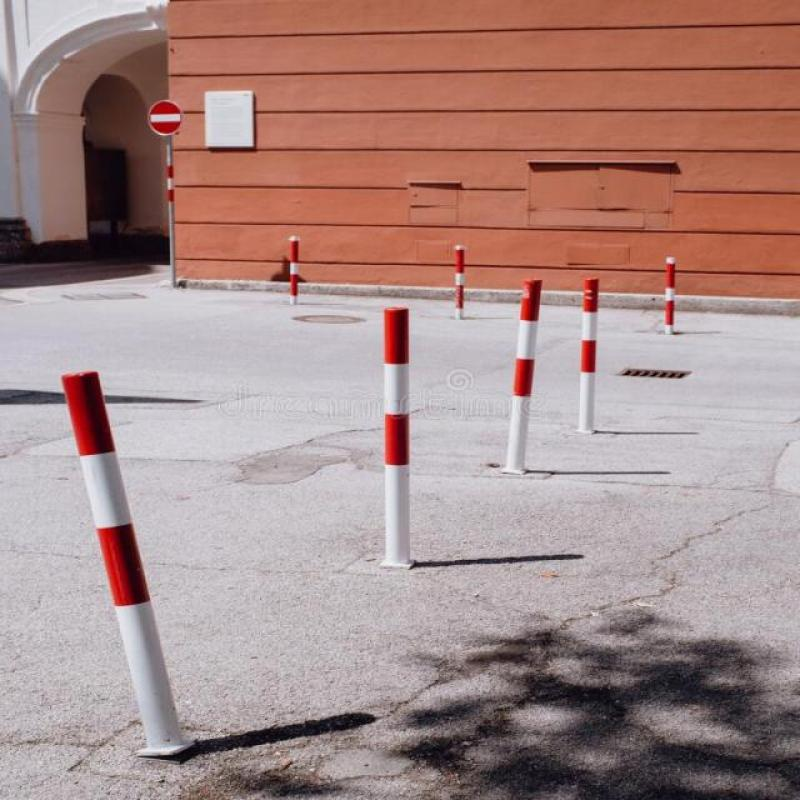pillar: (48, 360, 230, 772), (368, 299, 426, 579), (505, 271, 549, 491), (572, 274, 618, 444), (442, 242, 474, 324), (282, 234, 314, 311), (658, 255, 683, 344), (162, 162, 182, 212)
